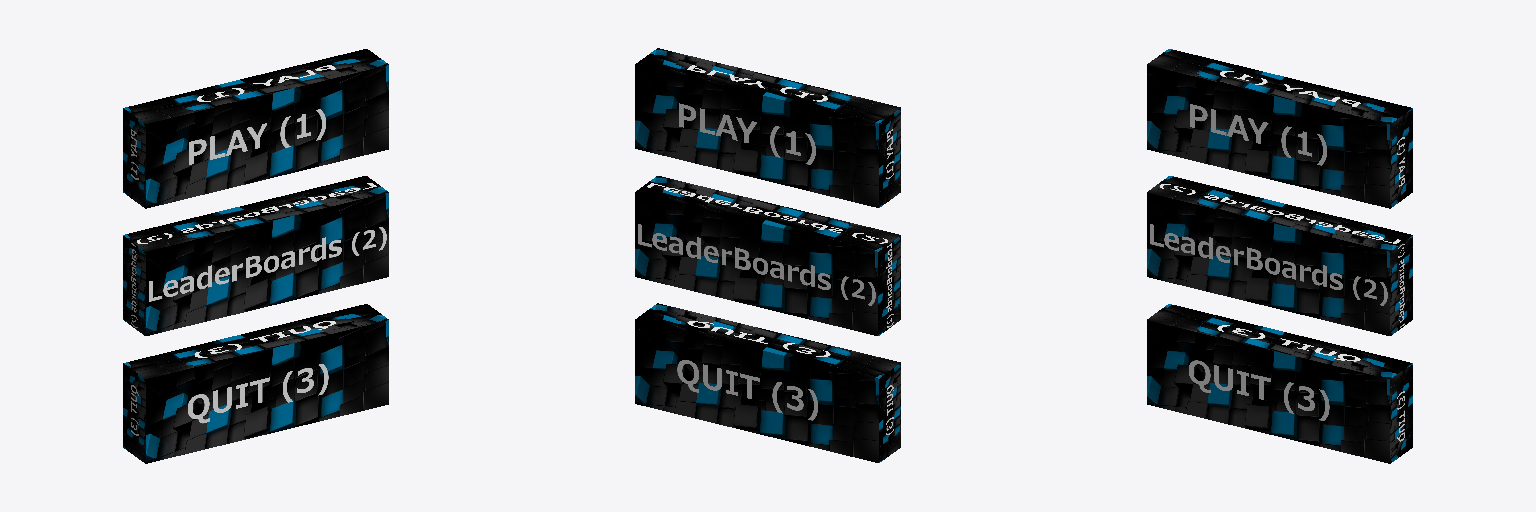
3 views of the same model, side by side, from view 1: azimuth 30°, elevation 25°; view 2: azimuth 150°, elevation 25°; view 3: azimuth 330°, elevation 25° (orthographic).
Parts seen in each view (by area): view 1: Box002, Box001, Box003; view 2: Box002, Box001, Box003; view 3: Box002, Box001, Box003.
Part boxes in pixels (x1,y1,x2,y2): Box002: (123, 176, 388, 335); Box001: (123, 304, 388, 463); Box003: (123, 49, 388, 208); Box002: (635, 176, 900, 335); Box001: (635, 303, 900, 462); Box003: (635, 48, 900, 207); Box002: (1147, 176, 1412, 335); Box001: (1147, 304, 1412, 463); Box003: (1147, 49, 1412, 208).
Size of the model in its own units: 47.98 by 63.9 by 7.83.
Materials: 3 (3 with a texture image).